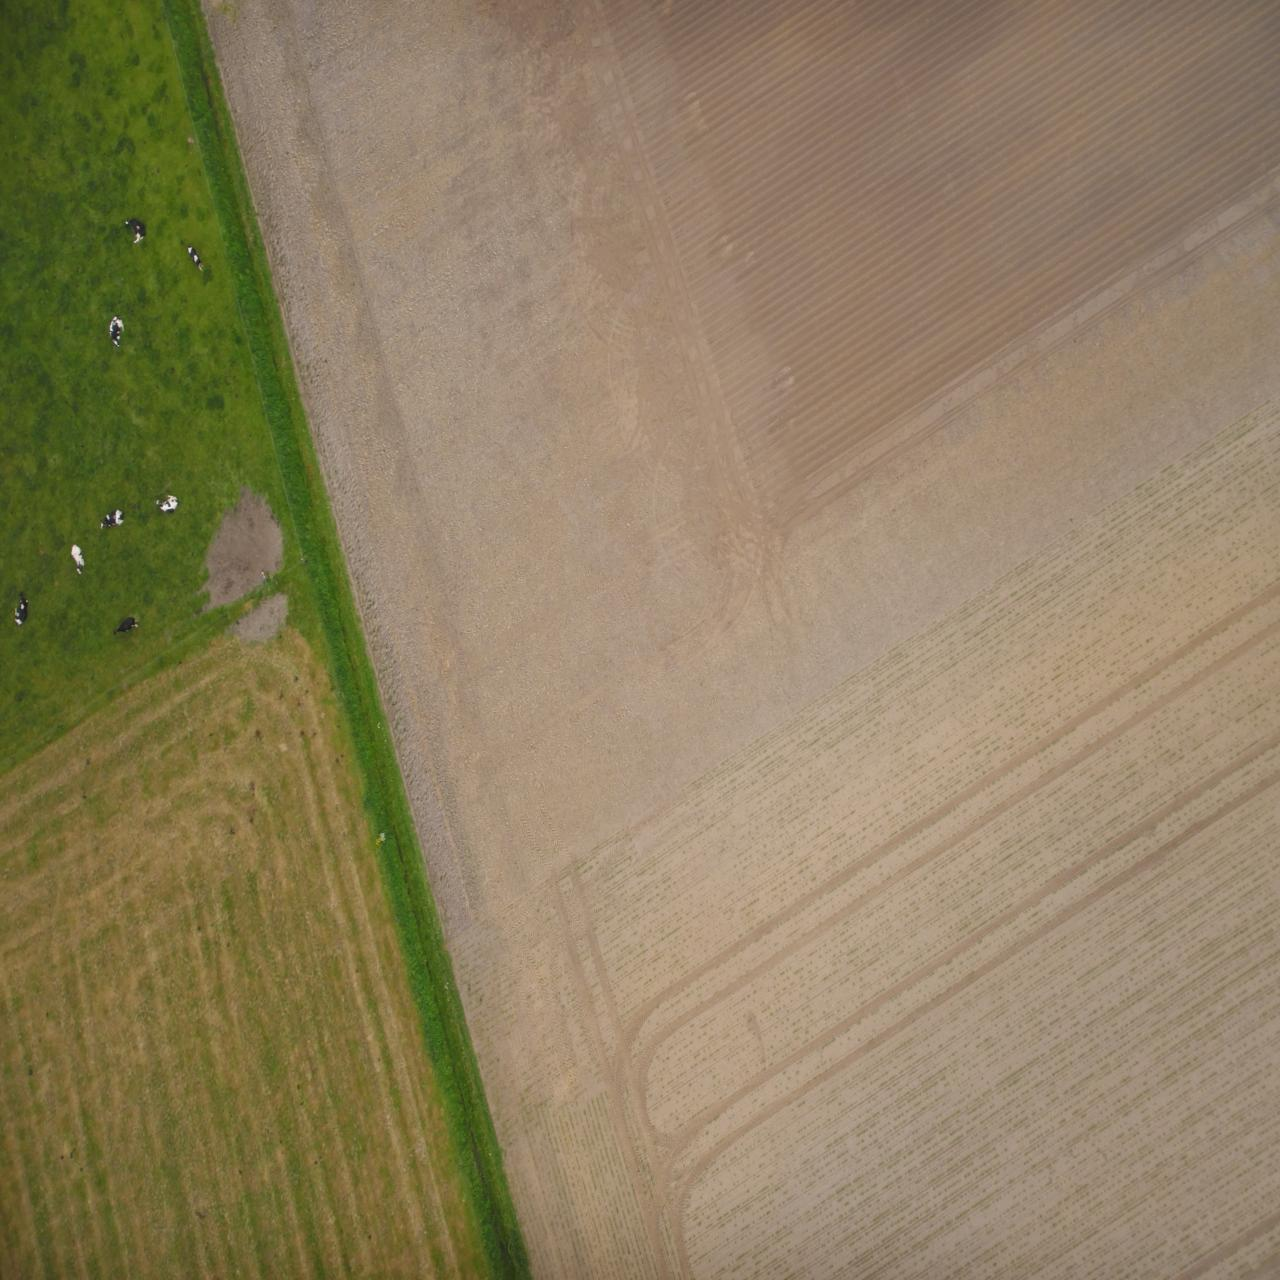cow: (1156, 750, 1179, 771), (1142, 645, 1167, 662), (1252, 653, 1265, 687), (1194, 706, 1208, 736), (1102, 767, 1123, 787)
